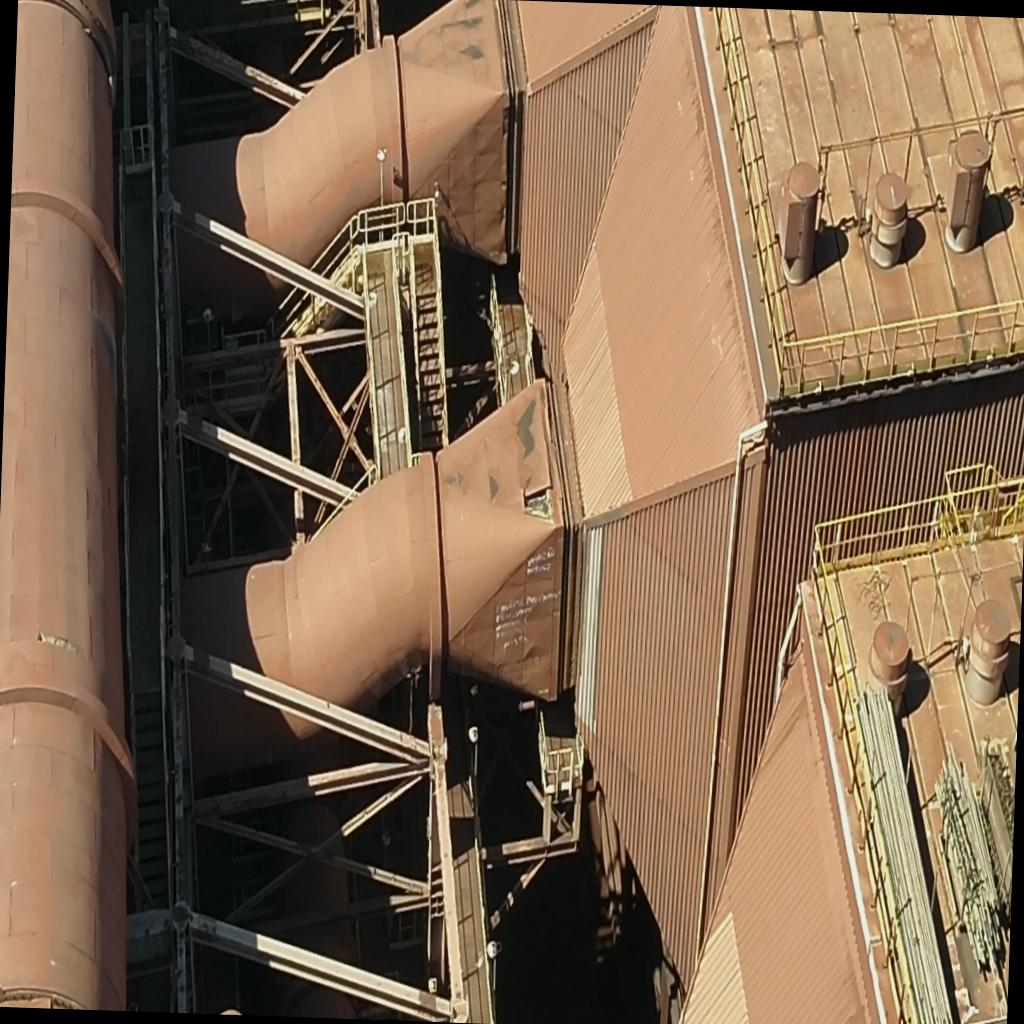Failures: (520, 478, 558, 524)
